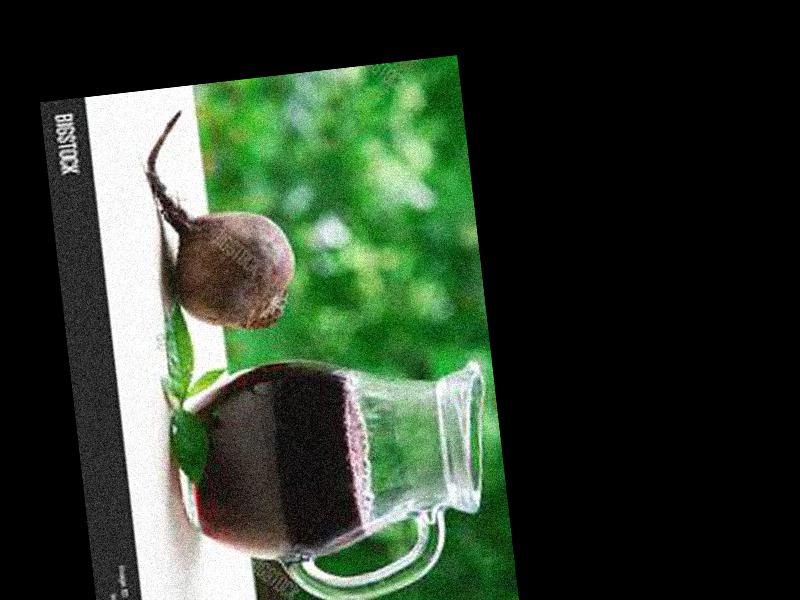Beet: (139, 102, 299, 337)
